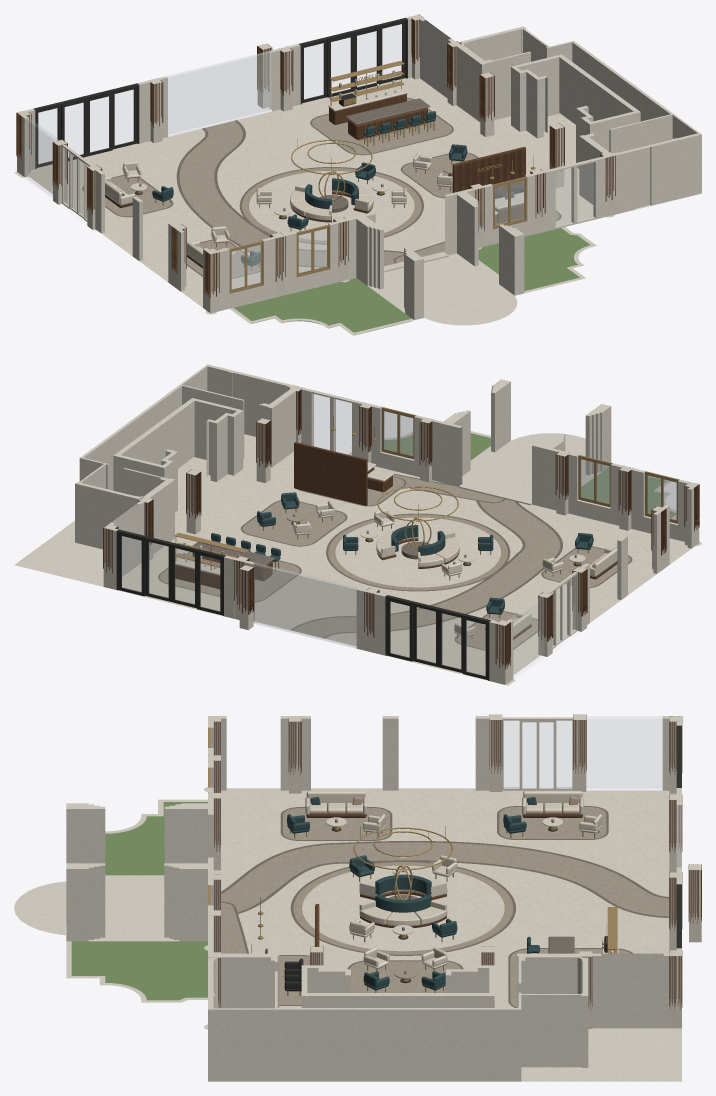
The model's file is ayaa_hotel_new_modern.glb.
3 views of the same model, one above another, from view 1: azimuth 30°, elevation 25°; view 2: azimuth 150°, elevation 25°; view 3: azimuth 270°, elevation 25° (orthographic). The views are drawn at different scales.
Visible parts, largest first — view 1: NEW_FLOOR_Base_ivory_field, SRC_0011_ID5054, SRC_0021_ID5146, SRC_0088_ID5629, NEW_FLOOR_Main_movement_field, NEW_FLOOR_Central_stone_field, SRC_0018_ID5124, SRC_0109_ID5776, SRC_0017_ID5111, NEW_FLOOR_Bar_zone, Reception_Backdrop_Panel, SRC_0092_ID5660 (+52 smaller); view 2: NEW_FLOOR_Base_ivory_field, SRC_0011_ID5054, SRC_0021_ID5146, SRC_0088_ID5629, NEW_FLOOR_Central_stone_field, NEW_FLOOR_Main_movement_field, Reception_Backdrop_Panel, SRC_0109_ID5776, SRC_0008_ID5032, NEW_FLOOR_East_lounge_field, SRC_0092_ID5660, NEW_FLOOR_Central_greige_band (+51 smaller); view 3: SRC_0011_ID5054, NEW_FLOOR_Base_ivory_field, SRC_0021_ID5146, NEW_FLOOR_Main_movement_field, NEW_FLOOR_Central_stone_field, SRC_0092_ID5660, SRC_0017_ID5111, SRC_0008_ID5032, SRC_0080_ID5575, SRC_0018_ID5124, SRC_0083_ID5595, NEW_FLOOR_Central_greige_band (+32 smaller).
Boxes of the visible parts, <box> form: NEW_FLOOR_Base_ivory_field: <box>28,77,593,307</box>; SRC_0011_ID5054: <box>406,17,701,217</box>; SRC_0021_ID5146: <box>230,190,596,335</box>; SRC_0088_ID5629: <box>166,51,271,136</box>; NEW_FLOOR_Main_movement_field: <box>179,121,403,266</box>; NEW_FLOOR_Central_stone_field: <box>249,171,414,240</box>; SRC_0018_ID5124: <box>240,281,405,329</box>; SRC_0109_ID5776: <box>217,221,338,311</box>; SRC_0017_ID5111: <box>478,230,584,288</box>; NEW_FLOOR_Bar_zone: <box>312,98,451,154</box>; Reception_Backdrop_Panel: <box>452,146,525,194</box>; SRC_0092_ID5660: <box>23,118,86,224</box>; NEW_FLOOR_Base_ivory_field: <box>118,434,690,680</box>; SRC_0011_ID5054: <box>14,364,295,586</box>; SRC_0021_ID5146: <box>348,379,700,523</box>; SRC_0088_ID5629: <box>252,563,358,647</box>; NEW_FLOOR_Central_stone_field: <box>335,517,500,587</box>; NEW_FLOOR_Main_movement_field: <box>293,499,560,637</box>; Reception_Backdrop_Panel: <box>294,442,367,505</box>; SRC_0109_ID5776: <box>568,453,689,541</box>; SRC_0008_ID5032: <box>20,524,103,584</box>; NEW_FLOOR_East_lounge_field: <box>242,501,345,545</box>; SRC_0092_ID5660: <box>510,597,579,678</box>; NEW_FLOOR_Central_greige_band: <box>328,514,507,590</box>; SRC_0011_ID5054: <box>204,948,681,1081</box>; NEW_FLOOR_Base_ivory_field: <box>213,788,676,1029</box>; SRC_0021_ID5146: <box>66,799,213,1002</box>; NEW_FLOOR_Main_movement_field: <box>221,842,668,916</box>; NEW_FLOOR_Central_stone_field: <box>302,865,504,951</box>; SRC_0092_ID5660: <box>586,716,662,789</box>; SRC_0017_ID5111: <box>77,943,202,997</box>; SRC_0008_ID5032: <box>527,1030,676,1079</box>; SRC_0080_ID5575: <box>601,956,663,1028</box>; SRC_0018_ID5124: <box>105,804,175,872</box>; SRC_0083_ID5595: <box>14,881,66,935</box>; NEW_FLOOR_Central_greige_band: <box>293,862,512,954</box>.
Bounding box in the file's own units: 31.33 × 3.74 × 30.84.
Materials: 14 (9 with a texture image).
